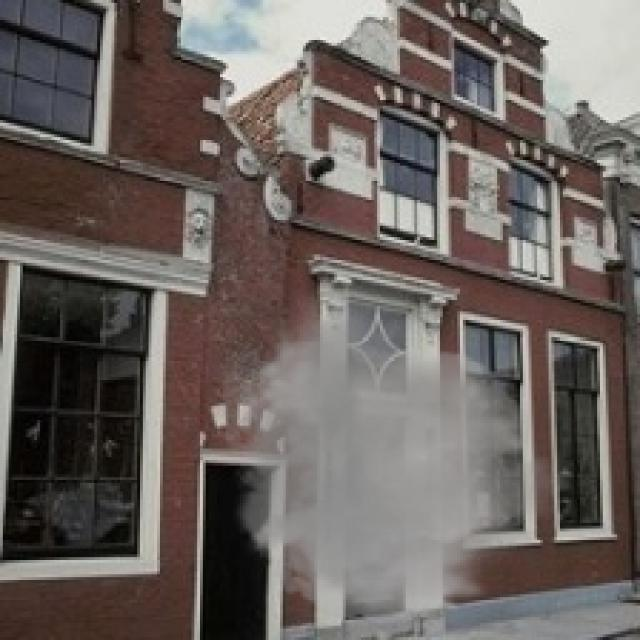Smoke: (205, 283, 578, 632)
